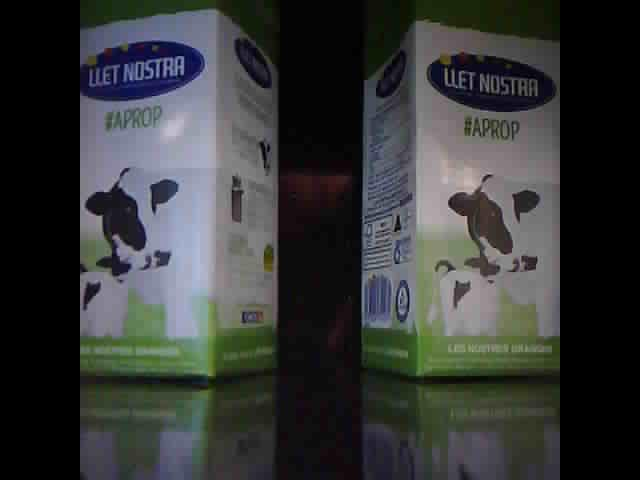leche: (80, 4, 281, 377), (363, 5, 559, 382)
